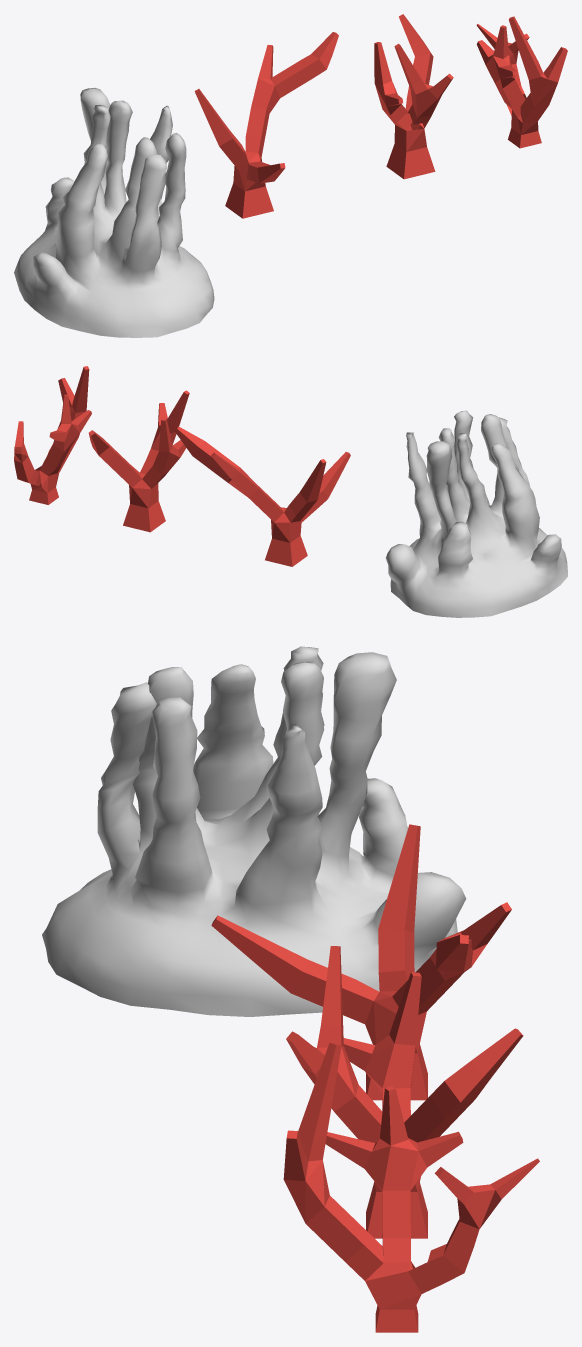
File: corals.fbx
3 renders of one model, top to bottom at view 1: azimuth 30°, elevation 25°; view 2: azimuth 150°, elevation 25°; view 3: azimuth 270°, elevation 25°, orthographic. The views are drawn at different scales.
Visible parts, largest first — view 1: bumpycoral, coral1, coral2, coral3; view 2: bumpycoral, coral1, coral2, coral3; view 3: bumpycoral, coral3, coral1, coral2.
Part boxes in pixels (left/top/right/bottom): bumpycoral: left=14, top=88, right=214, bottom=337; coral1: left=194, top=32, right=338, bottom=218; coral2: left=374, top=14, right=453, bottom=179; coral3: left=476, top=16, right=567, bottom=148; bumpycoral: left=385, top=410, right=567, bottom=617; coral1: left=174, top=426, right=350, bottom=566; coral2: left=88, top=390, right=189, bottom=532; coral3: left=14, top=366, right=91, bottom=504; bumpycoral: left=42, top=646, right=466, bottom=1016; coral3: left=283, top=1042, right=539, bottom=1332; coral1: left=211, top=824, right=511, bottom=1100; coral2: left=286, top=946, right=523, bottom=1238.
Bounding box in the file's own units: 2001 × 599 × 888.
